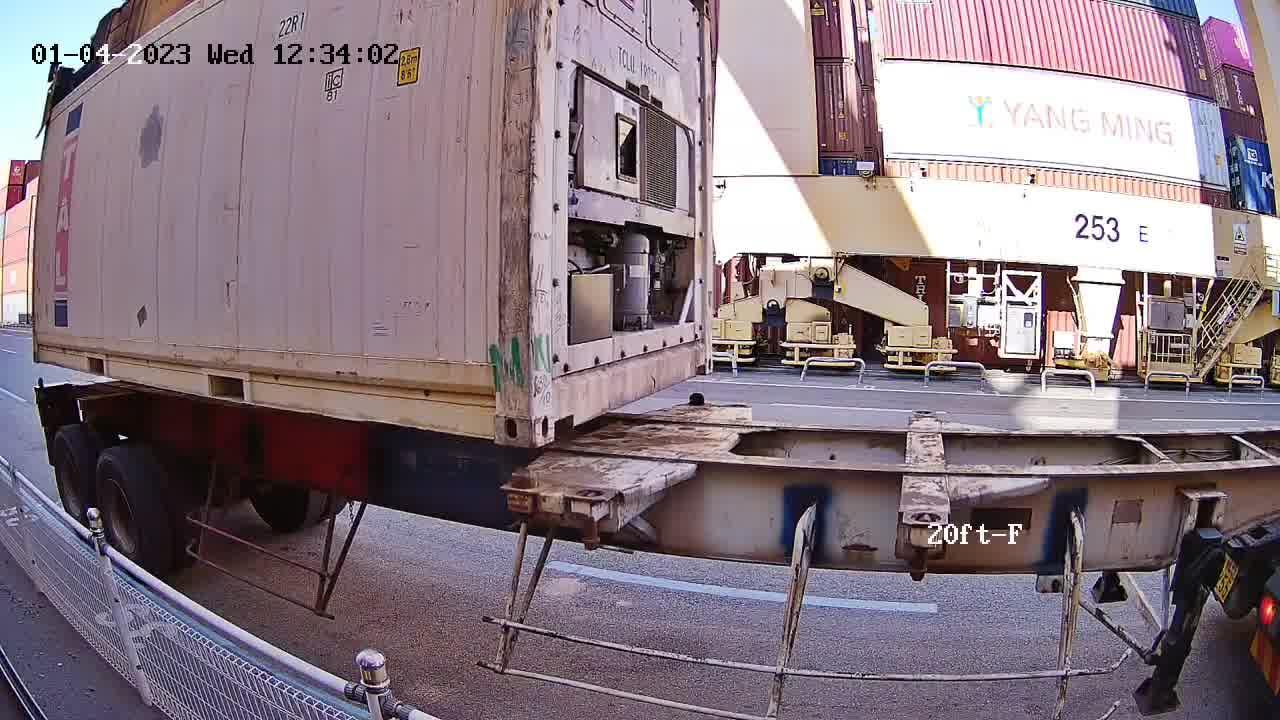Chassis: (507, 401, 708, 495), (568, 403, 751, 503)
Cone: (569, 484, 611, 558), (505, 470, 540, 521)
Hole_L: (531, 378, 579, 445)
Hole_R: (463, 375, 534, 447), (688, 338, 715, 376)
Tire: (95, 455, 152, 571), (53, 431, 94, 528)
